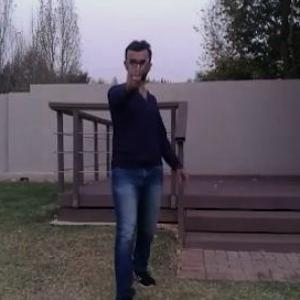takeoff-hand: (118, 53, 153, 96)
